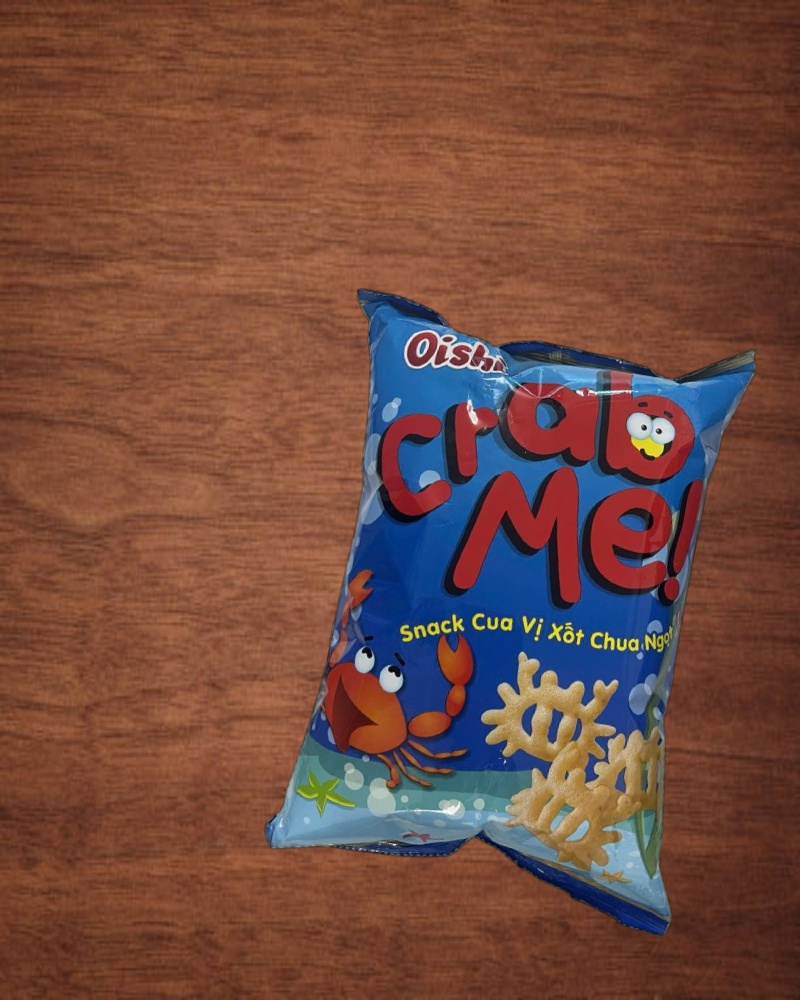Snack cua: (258, 281, 772, 931)
